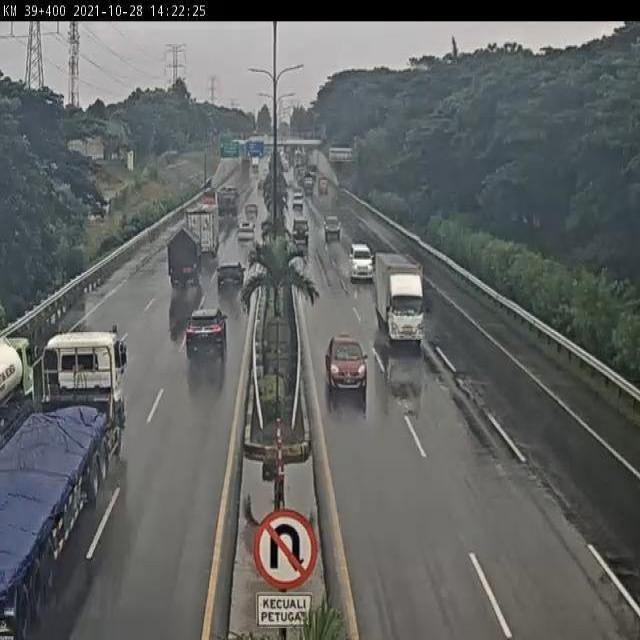big truck: (41, 327, 122, 469), (184, 202, 219, 262)
car: (321, 327, 369, 408), (0, 320, 31, 417), (188, 302, 228, 350), (346, 244, 377, 289), (216, 261, 244, 291), (235, 219, 258, 248), (289, 215, 310, 245), (284, 187, 306, 212), (325, 215, 339, 244), (249, 186, 262, 206)
small truck: (374, 250, 431, 354), (165, 224, 201, 283)
